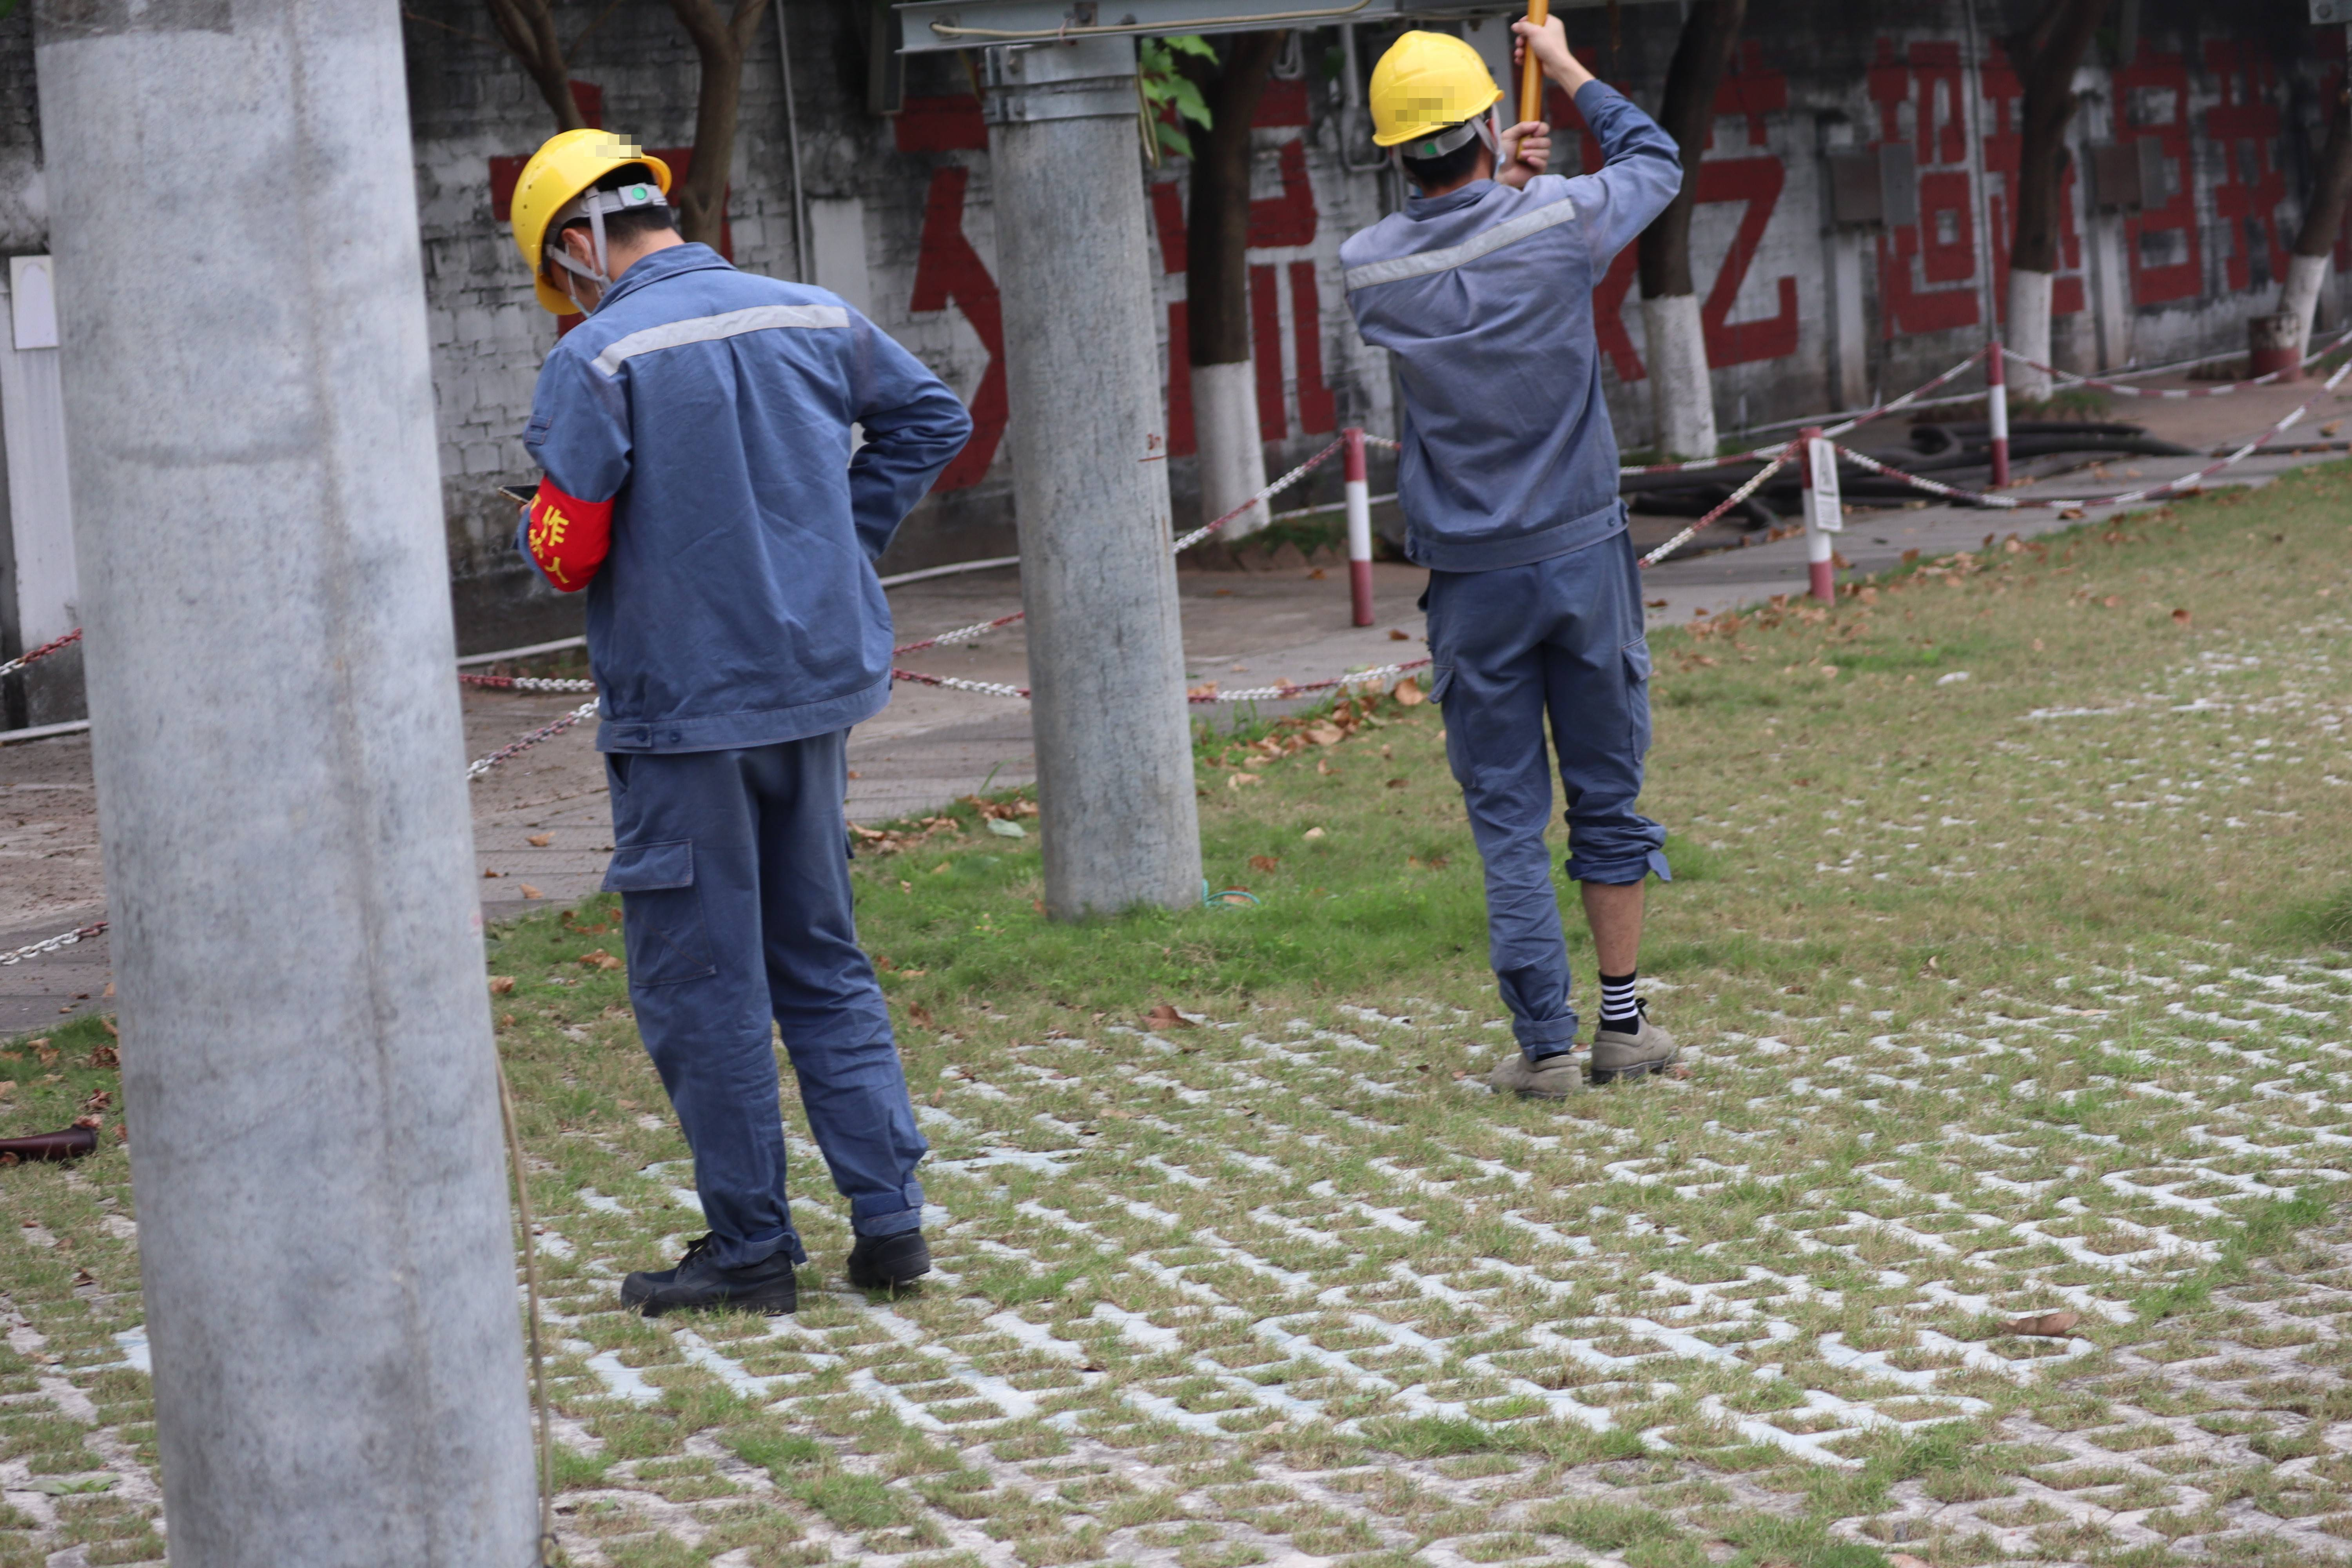downsuit: (600, 761, 938, 1246), (1424, 565, 1677, 1034)
upsuit: (497, 235, 978, 740), (1333, 58, 1689, 551)
wrongbottom: (1571, 817, 1661, 992)
